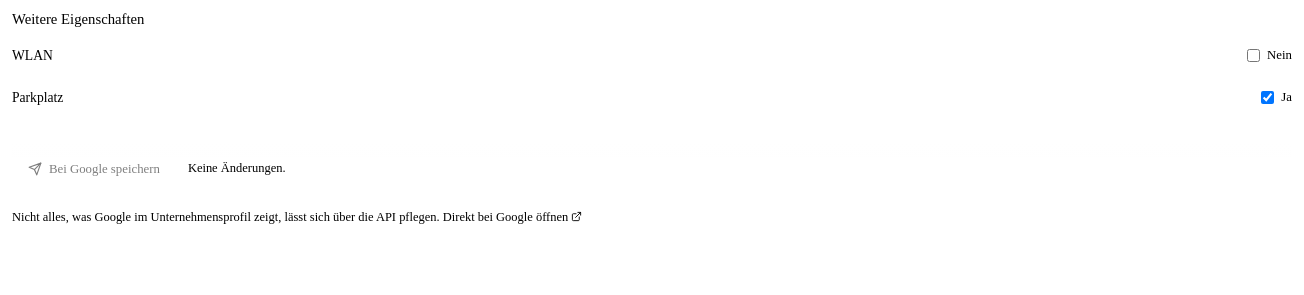
Test: Speichern › behauptet keine Veröffentlichung
Click the checkbox named "WLAN" at (1254, 56), box [1247,49,1260,62]
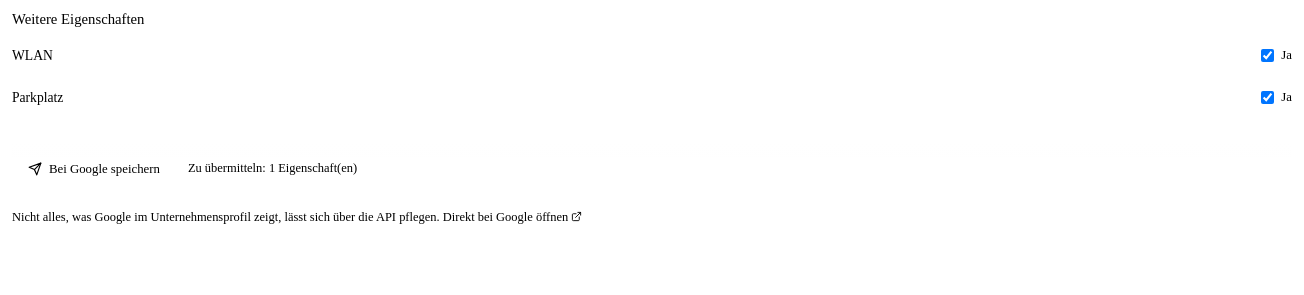
Click the button "Bei Google speichern" at (94, 170), box [12,153,176,186]
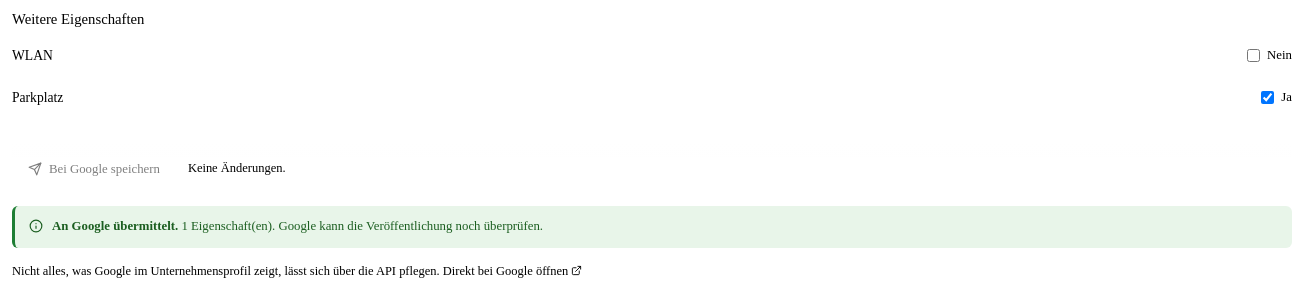
Expected: the text "An Google übermittelt." is shown, [52,219,178,233]
Expected: the text "Veröffentlichung noch überprüfen" is shown, [188,219,543,233]
